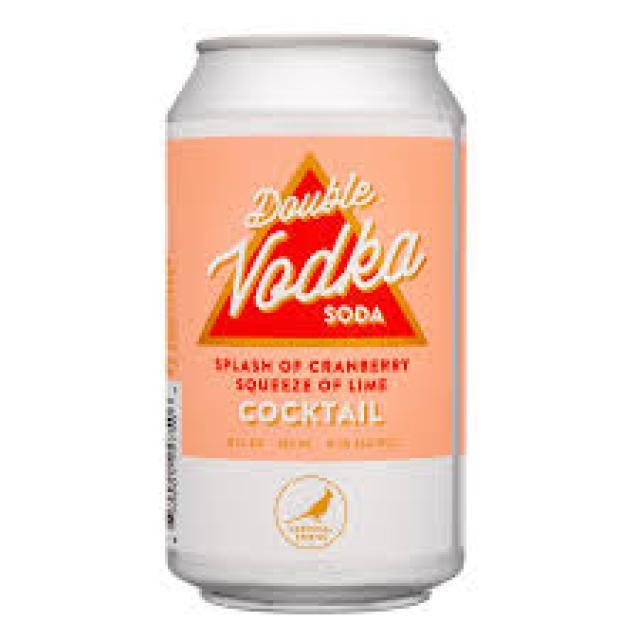Cans: (153, 25, 480, 606)
